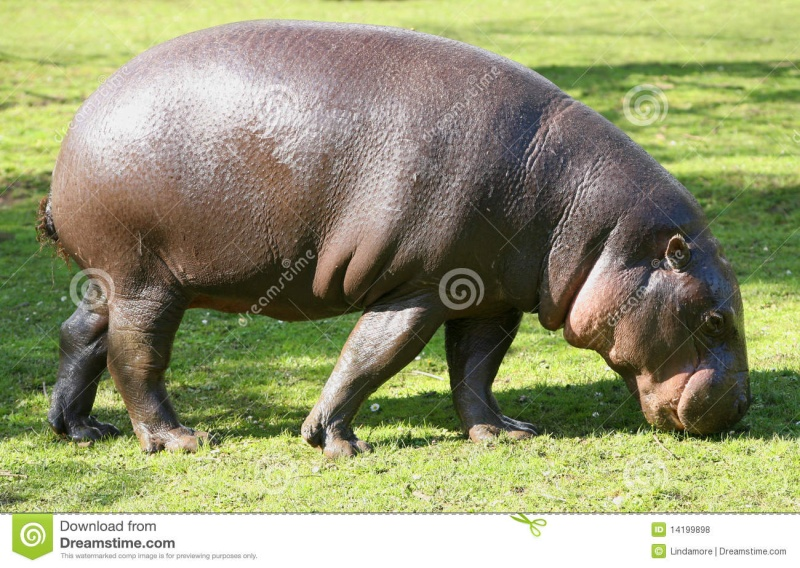hipopotamo: (42, 16, 760, 456)
